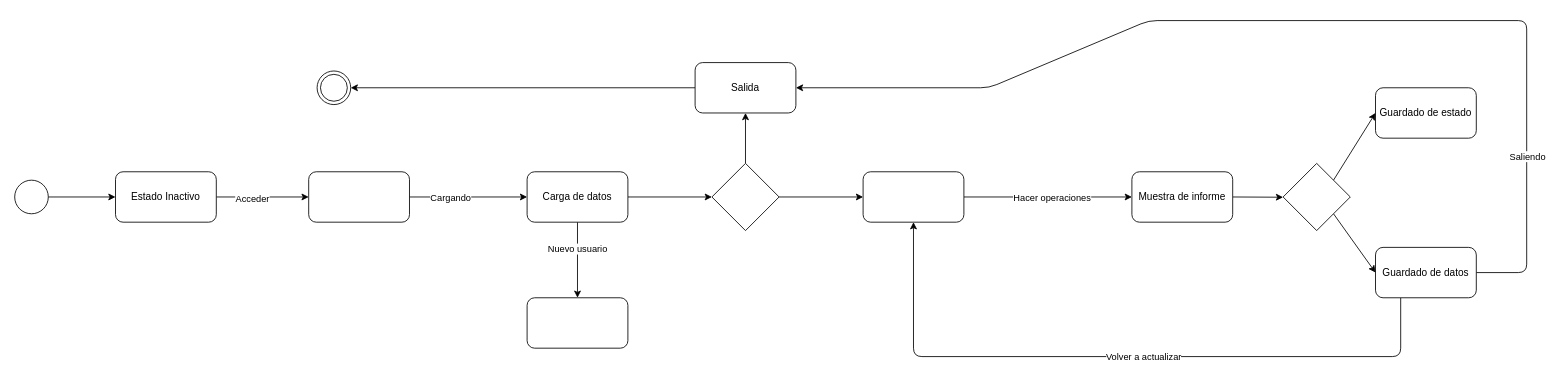
Image size: 1560x378. Some labels were removed from this diagram. Each missing label, with the centre of its shape:
"Acceso" belongs at point 359,196.
"Actualización" belongs at point 913,196.
"Inicialización" belongs at point 577,322.
